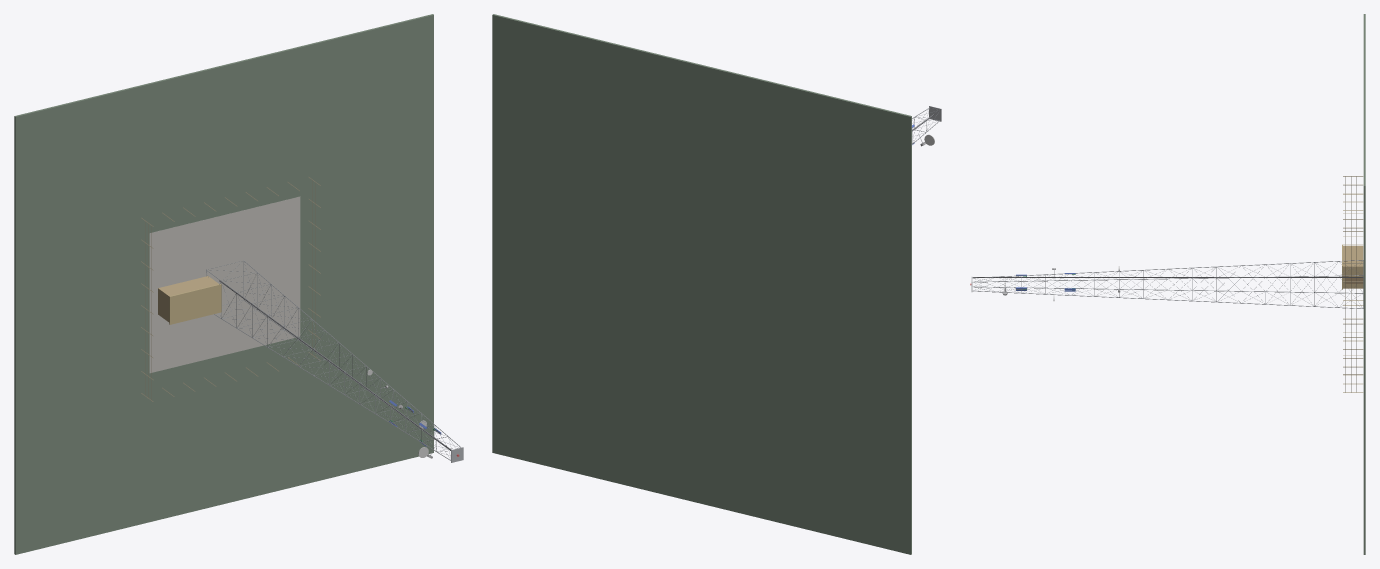
File: tower.glb
3 renders of one model, left to right at view 1: azimuth 30°, elevation 25°; view 2: azimuth 150°, elevation 25°; view 3: azimuth 270°, elevation 25°, orthographic. The views are drawn at different scales.
Parts seen in each view (by area): view 1: GROUND, CONC_PAD, SHELTER; view 2: GROUND; view 3: GROUND, SHELTER, LEG_NE.
Boxes of the visible parts, bbox=[...] form: GROUND: bbox=[14, 14, 433, 554]; CONC_PAD: bbox=[149, 196, 300, 373]; SHELTER: bbox=[158, 276, 221, 324]; GROUND: bbox=[492, 14, 911, 554]; GROUND: bbox=[1363, 14, 1365, 554]; SHELTER: bbox=[1342, 244, 1363, 289]; LEG_NE: bbox=[973, 275, 1363, 282].
Bounding box in the file's own units: 50 × 50 × 48.55.
